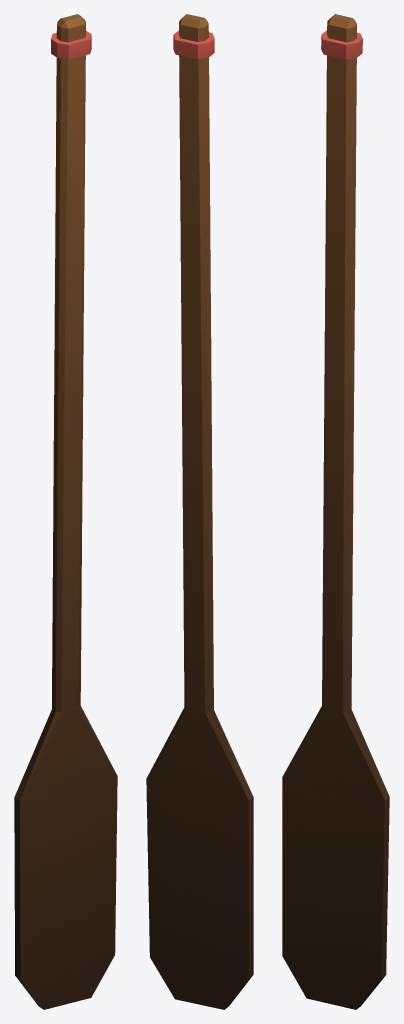
File: SM_Sw_Paddle_01.fbx
The picture shows the model from 3 angles, left to right: view 1: azimuth 30°, elevation 25°; view 2: azimuth 150°, elevation 25°; view 3: azimuth 330°, elevation 25°; orthographic projection.
Visible parts, largest first — view 1: SM_Sw_Paddle_01; view 2: SM_Sw_Paddle_01; view 3: SM_Sw_Paddle_01.
Part boxes in pixels (<box>): SM_Sw_Paddle_01: <box>14,14,117,1009</box>; SM_Sw_Paddle_01: <box>146,14,253,1009</box>; SM_Sw_Paddle_01: <box>282,14,389,1009</box>.
Bounding box in the file's own units: 16.69 × 156 × 4.59.
